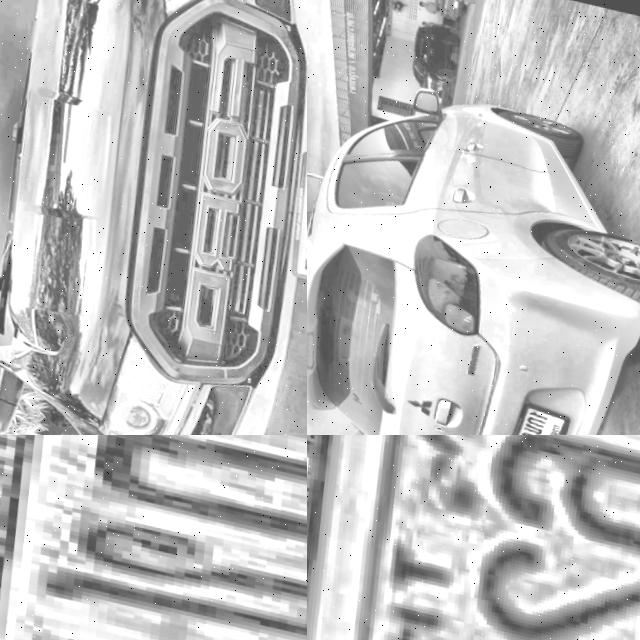license-plate: (307, 435, 640, 640), (0, 435, 307, 640), (498, 383, 573, 435), (284, 134, 307, 283)
